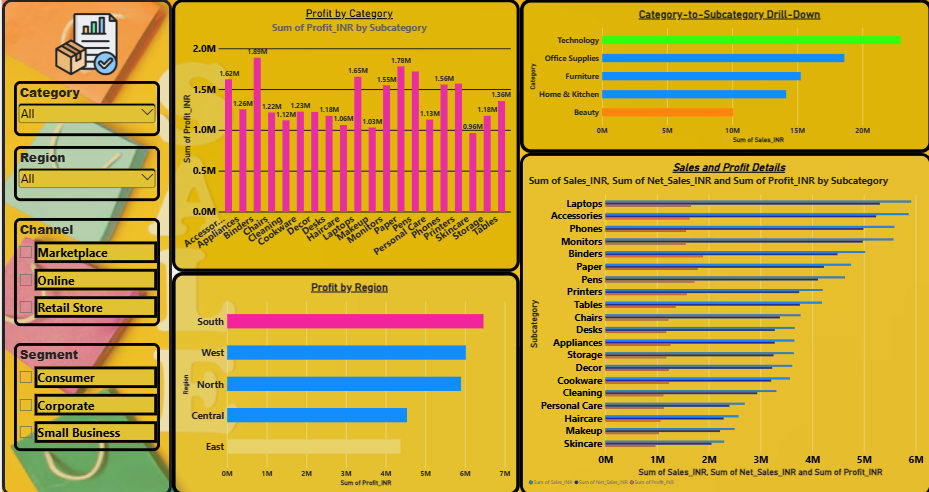

The page's visual inventory and layout, read from the dashboard file:
{"tool":"powerbi","page":{"name":"2 PROFIT AND PRODUCT ANALYIS","canvas":[2580,1378],"ordinal":2},"visuals":[{"type":"clusteredColumnChart","title":"Profit by Category","fields":{"Category":["sales_data.Category","sales_data.Subcategory"],"Y":["Sum(sales_data.Profit_INR)"]},"box":[471.6,0,965.4,757.4],"z":0},{"type":"barChart","title":"Profit by Region","fields":{"Category":["sales_data.Region"],"Y":["Sum(sales_data.Profit_INR)"]},"box":[471.6,757.4,965.4,621.4],"z":1000},{"type":"shape","box":[0,0,471.6,1378.8],"z":2000},{"type":"clusteredBarChart","title":" Category-to-Subcategory Drill-Down","fields":{"Category":["sales_data.Category","sales_data.Subcategory"],"Y":["Sum(sales_data.Sales_INR)"]},"box":[1437,0,1143,427.2],"z":3000},{"type":"clusteredBarChart","title":"Sales and Profit Details","fields":{"Category":["sales_data.Subcategory"],"Y":["Sum(sales_data.Sales_INR)","Sum(sales_data.Net_Sales_INR)","Sum(sales_data.Profit_INR)"]},"box":[1437,427.2,1143,951.5],"z":4000}]}

Visuals, with their boxes in screenshot pixels (x1, y1, x2, y2), scaled from the page's 2580x1378 canvas onto the 929x492 screenshot:
"Profit by Category" clusteredColumnChart: x1=170, y1=0, x2=517, y2=270
"Profit by Region" barChart: x1=170, y1=270, x2=517, y2=491
shape: x1=0, y1=0, x2=170, y2=491
" Category-to-Subcategory Drill-Down" clusteredBarChart: x1=517, y1=0, x2=928, y2=153
"Sales and Profit Details" clusteredBarChart: x1=517, y1=153, x2=928, y2=491
